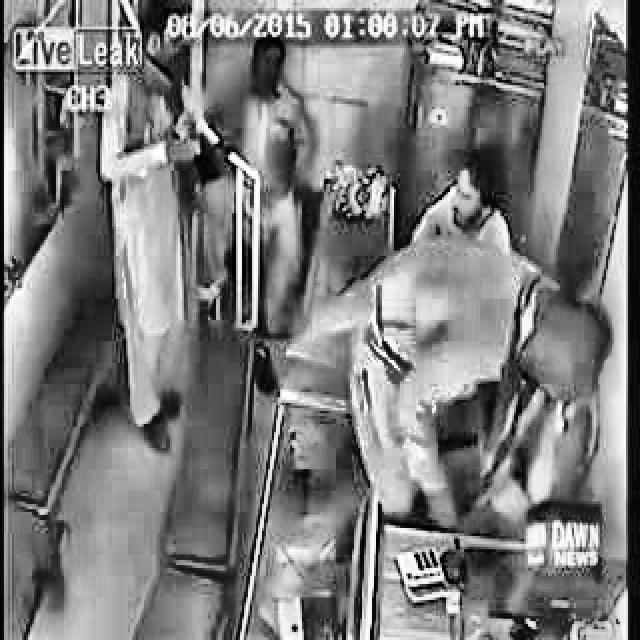Weapon: (420, 142, 546, 258), (121, 12, 240, 126), (244, 32, 336, 156)
